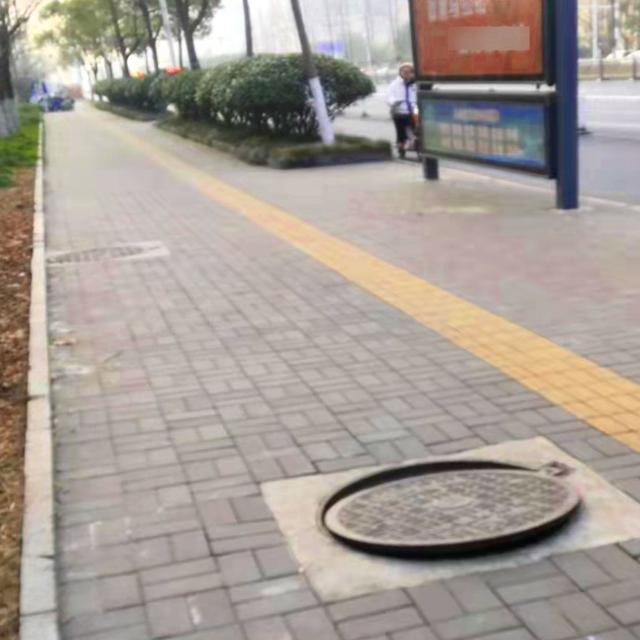uncovered: (312, 455, 588, 569)
